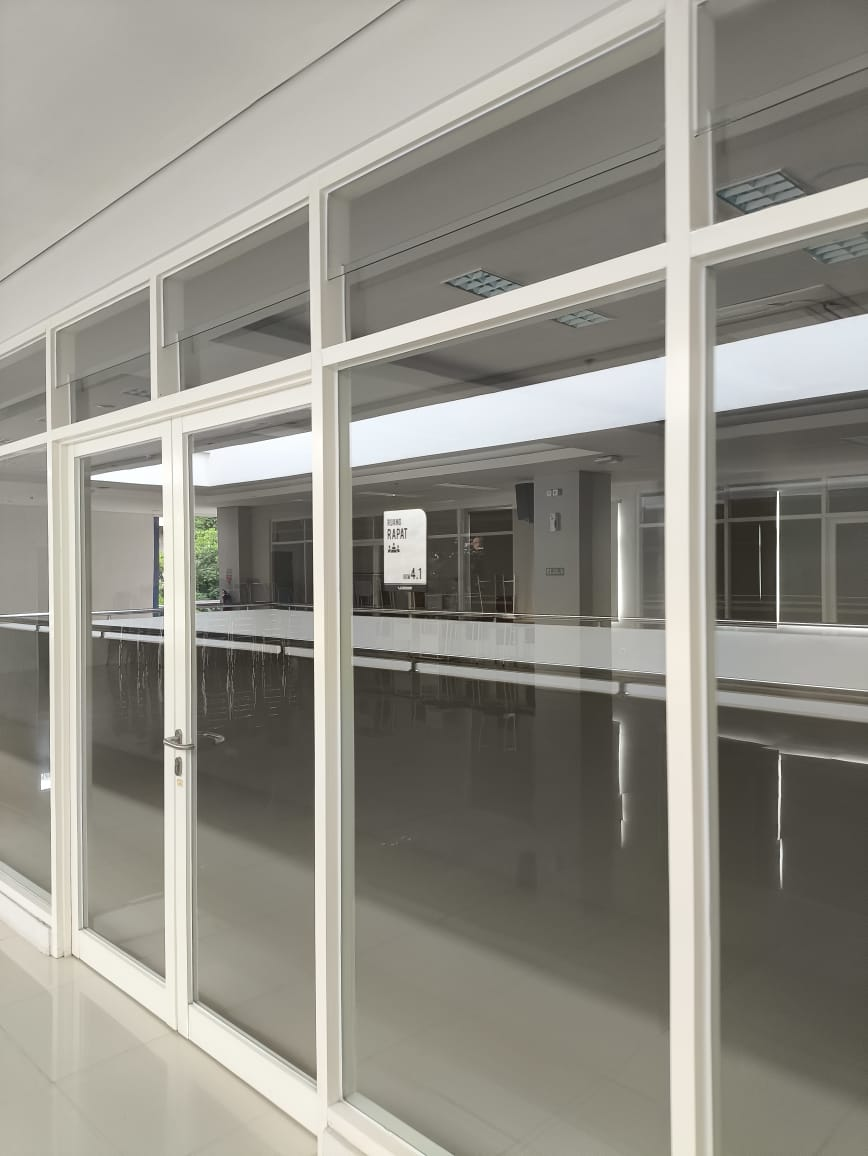ruang rapat: (375, 501, 435, 602)
